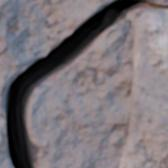brick: (120, 10, 167, 167)
crack: (2, 0, 167, 167)
